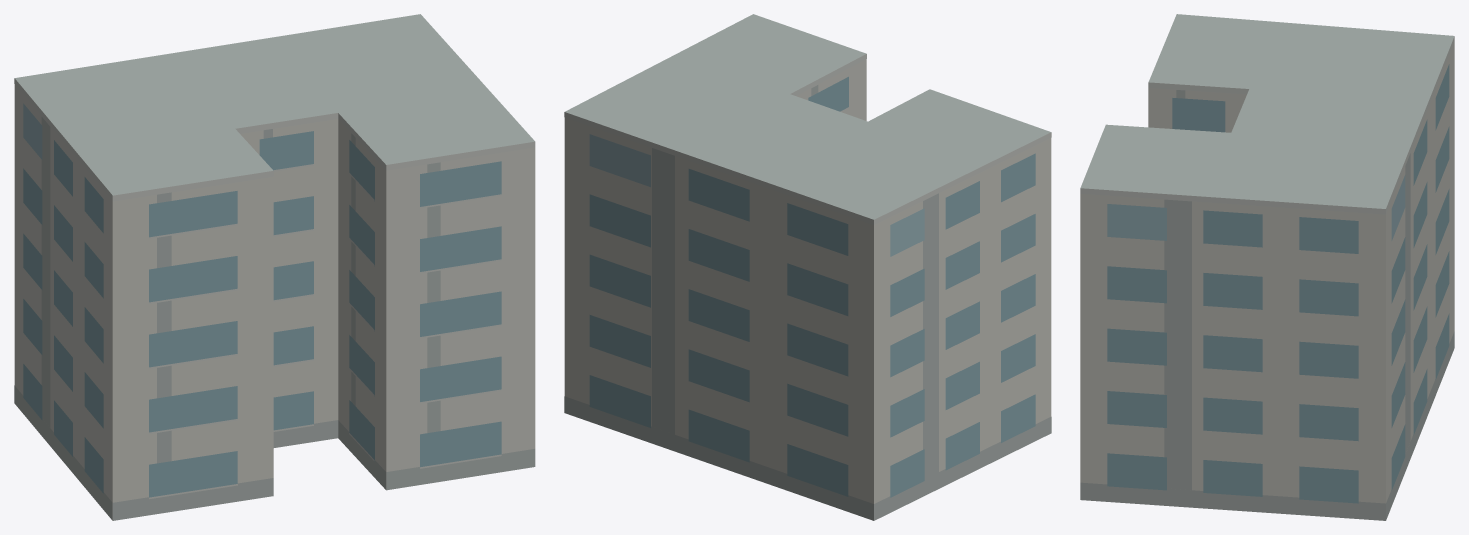
File: survey-upis-32673103.glb
3 views of the same model, side by side, from view 1: azimuth 30°, elevation 25°; view 2: azimuth 150°, elevation 25°; view 3: azimuth 270°, elevation 25° (orthographic). The views are drawn at different scales.
Parts seen in each view (by area): view 1: survey-upis-32673103.tmp; view 2: survey-upis-32673103.tmp; view 3: survey-upis-32673103.tmp.
Part boxes in pixels (bbox=[...]): survey-upis-32673103.tmp: bbox=[14, 14, 535, 520]; survey-upis-32673103.tmp: bbox=[564, 14, 1051, 520]; survey-upis-32673103.tmp: bbox=[1080, 14, 1454, 520].
Bounding box in the file's own units: 18.14 × 13.51 × 14.71.
